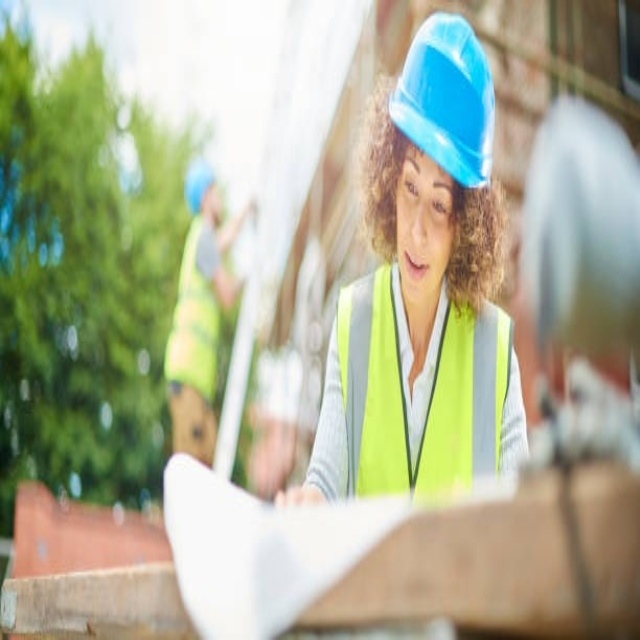Sin_gafas: (401, 154, 451, 222)
Sin_mascara: (398, 237, 436, 303)
